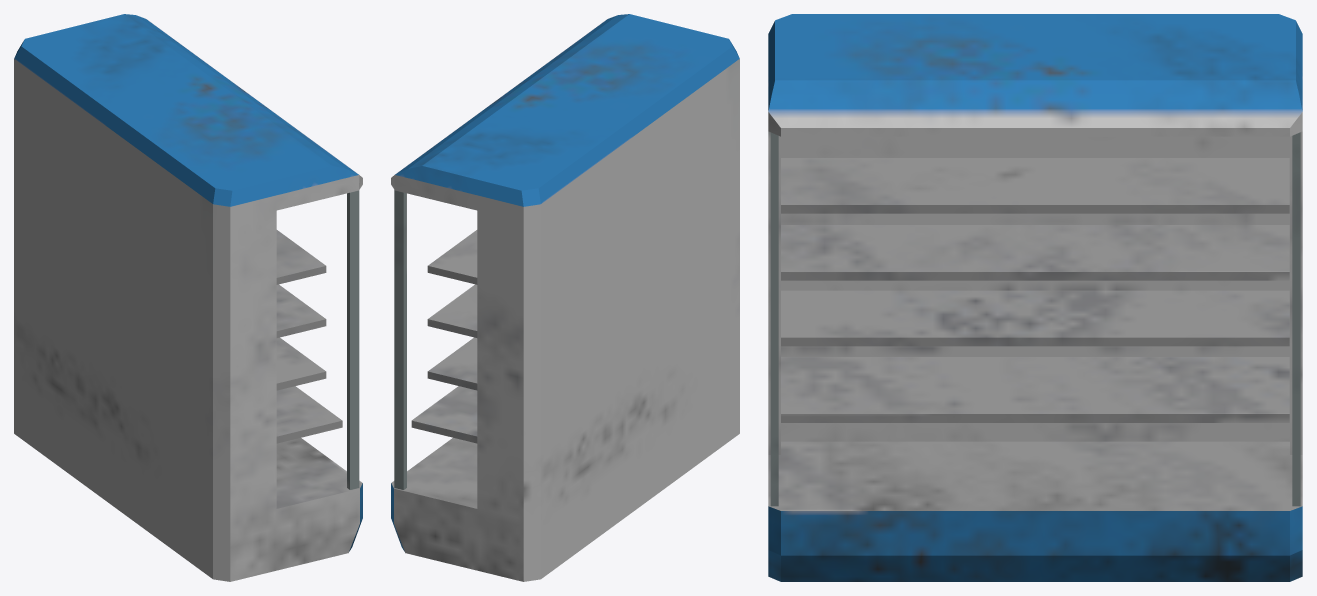
Rendered from cool time.fbx.
The picture shows the model from 3 angles, left to right: view 1: azimuth 30°, elevation 25°; view 2: azimuth 150°, elevation 25°; view 3: azimuth 270°, elevation 25°; orthographic projection. The views are drawn at different scales.
Parts seen in each view (by area): view 1: Cool times; view 2: Cool times; view 3: Cool times.
Boxes of the visible parts, x1,y1,x2,y2 form: Cool times: (14, 14, 362, 581); Cool times: (391, 14, 739, 581); Cool times: (768, 14, 1302, 581).
Size of the model in its own units: 80.18 by 202 by 200.
Materials: 1 (1 with a texture image).
